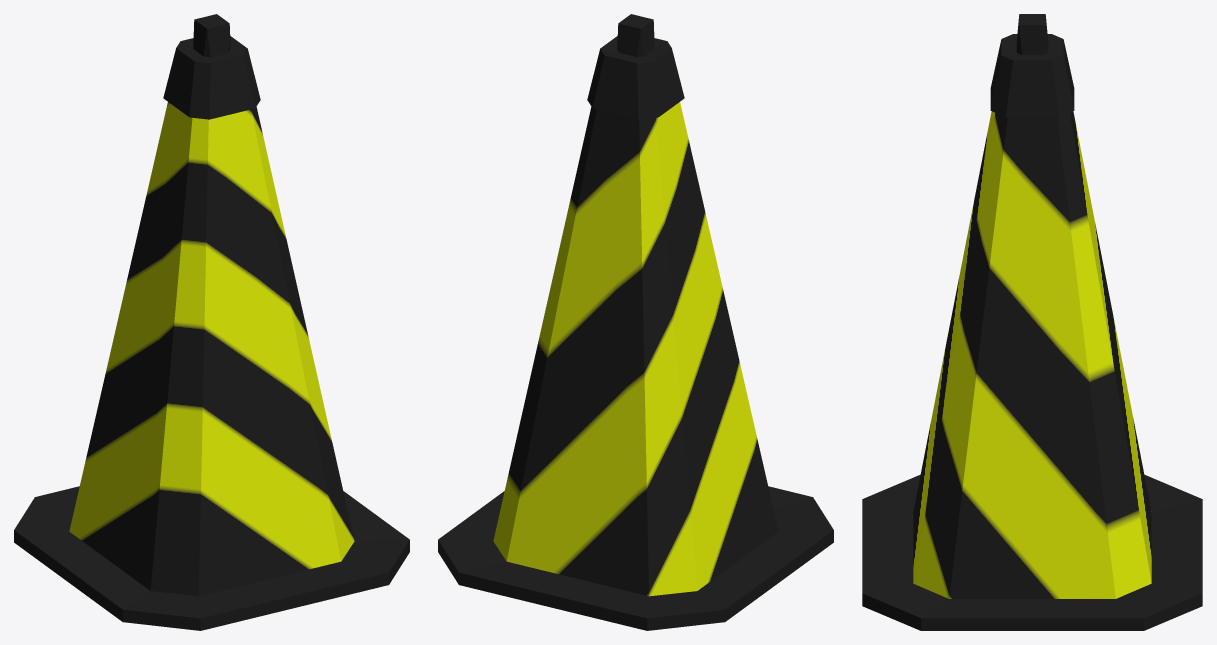
Rendered from sm_odr_stob_080b.fbx.
3 renders of one model, left to right at view 1: azimuth 30°, elevation 25°; view 2: azimuth 150°, elevation 25°; view 3: azimuth 270°, elevation 25°, orthographic. The views are drawn at different scales.
Parts seen in each view (by area): view 1: sm_odr_stob_080b; view 2: sm_odr_stob_080b; view 3: sm_odr_stob_080b.
Boxes of the visible parts, box(x1,y1,x2,y2) form: sm_odr_stob_080b: box(14, 14, 409, 630); sm_odr_stob_080b: box(438, 14, 833, 630); sm_odr_stob_080b: box(862, 14, 1202, 630).
Bounding box in the file's own units: 0.4 × 0.7 × 0.4.
Materials: 1 (1 with a texture image).
